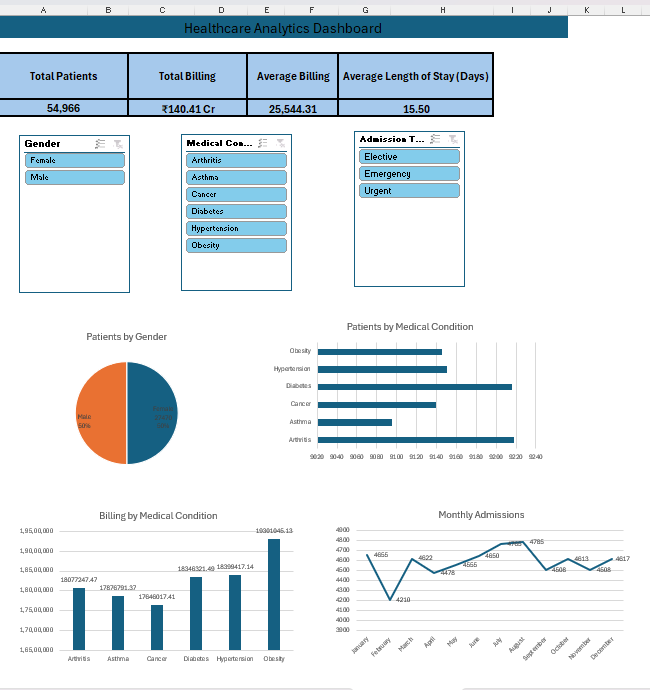

The dashboard page shown, as its layout file describes it:
{"tool":"powerbi","page":{"name":"Page 1","canvas":[1280,720],"ordinal":0},"visuals":[{"type":"card","fields":{"Values":["Healthcare_Data.Total Patients"]},"box":[125,101.7,205,86.7],"z":0},{"type":"card","fields":{"Values":["Healthcare_Data.Total Billing (Cr)"]},"box":[686.7,101.7,205,86.7],"z":1000},{"type":"card","fields":{"Values":["Healthcare_Data.Average Billing"]},"box":[996.7,96.7,205,86.7],"z":2000},{"type":"card","fields":{"Values":["Healthcare_Data.Average Length of Stay"]},"box":[395,101.7,205,86.7],"z":3000},{"type":"donutChart","title":"Patients by Gender","fields":{"Category":["Healthcare_Data.Gender"],"Y":["CountNonNull(Healthcare_Data.Patient Name)"]},"box":[868.3,466.7,333.3,236.7],"z":4000},{"type":"clusteredBarChart","title":"Patients by Medical Condition","fields":{"Category":["Healthcare_Data.Medical Condition"],"Y":["CountNonNull(Healthcare_Data.Patient Name)"]},"box":[23.3,330,420,320],"z":5000},{"type":"clusteredColumnChart","title":"Billing by Medical Condition","fields":{"Category":["Healthcare_Data.Medical Condition"],"Y":["Sum(Healthcare_Data.Billing Amount)"]},"box":[476.7,466.7,368.3,236.7],"z":6000},{"type":"lineChart","fields":{"Category":["Healthcare_Data.Admission Month"],"Y":["CountNonNull(Healthcare_Data.Patient Name)"]},"box":[651.7,225,550,210],"z":7000},{"type":"slicer","fields":{"Values":["Healthcare_Data.Gender"]},"box":[23.3,225,180,60],"z":8000},{"type":"slicer","fields":{"Values":["Healthcare_Data.Admission Type"]},"box":[228.3,225,180,60],"z":9000},{"type":"slicer","fields":{"Values":["Healthcare_Data.Medical Condition"]},"box":[436.7,225,180,60],"z":10000},{"type":"textbox","box":[11.7,8.3,765,40],"z":11000},{"type":"shape","box":[0,0,1280,80],"z":12000},{"type":"textbox","box":[0,8.3,1280,63.3],"z":13000}]}

Visuals, with their boxes on the page's 1280x720 design canvas (x1, y1, x2, y2). These are canvas units, not pixel positions in the 650x690 screenshot, which may show the page scaled, cropped or inside an application window:
card - Healthcare_Data.Total Patients: BBox(125, 102, 330, 188)
card - Healthcare_Data.Total Billing (Cr): BBox(687, 102, 892, 188)
card - Healthcare_Data.Average Billing: BBox(997, 97, 1202, 183)
card - Healthcare_Data.Average Length of Stay: BBox(395, 102, 600, 188)
"Patients by Gender" donutChart: BBox(868, 467, 1202, 703)
"Patients by Medical Condition" clusteredBarChart: BBox(23, 330, 443, 650)
"Billing by Medical Condition" clusteredColumnChart: BBox(477, 467, 845, 703)
lineChart - Healthcare_Data.Admission Month x CountNonNull(Healthcare_Data.Patient Name): BBox(652, 225, 1202, 435)
slicer - Healthcare_Data.Gender: BBox(23, 225, 203, 285)
slicer - Healthcare_Data.Admission Type: BBox(228, 225, 408, 285)
slicer - Healthcare_Data.Medical Condition: BBox(437, 225, 617, 285)
textbox: BBox(12, 8, 777, 48)
shape: BBox(0, 0, 1280, 80)
textbox: BBox(0, 8, 1280, 72)
